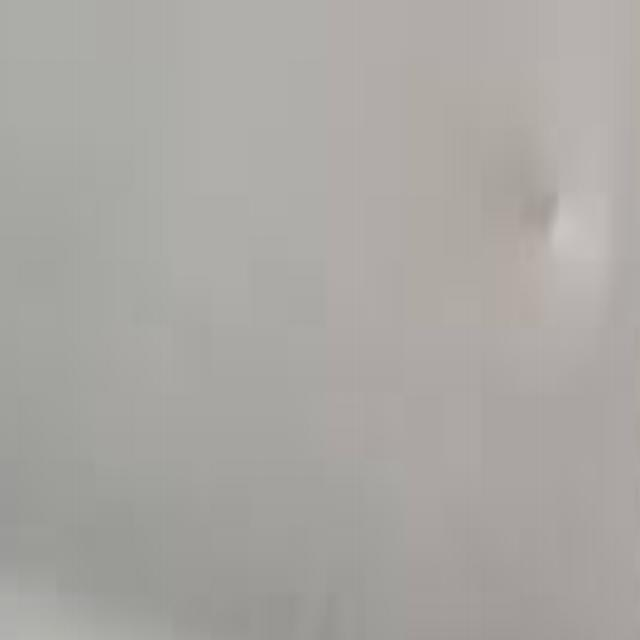dents: (506, 172, 607, 284)
